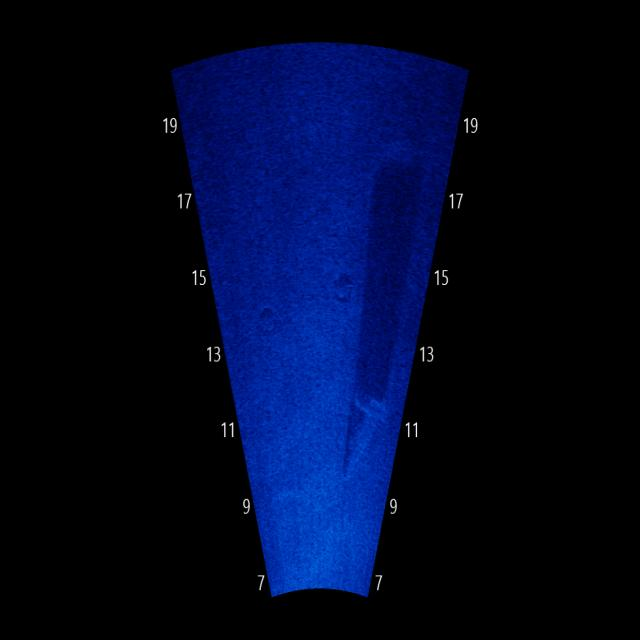triangle: (332, 378, 386, 482)
